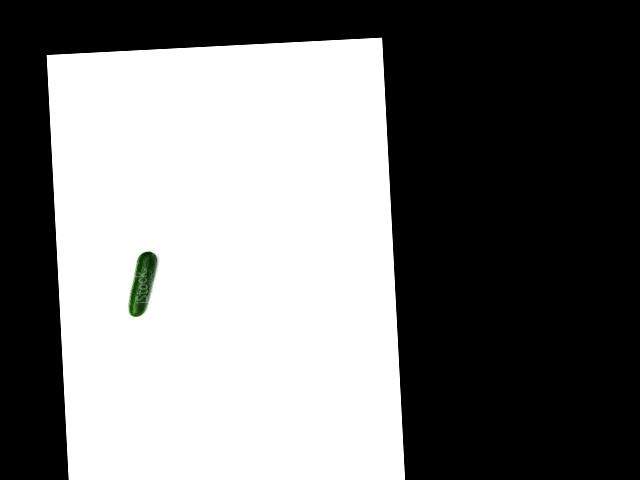cucumber: (126, 250, 159, 317)
